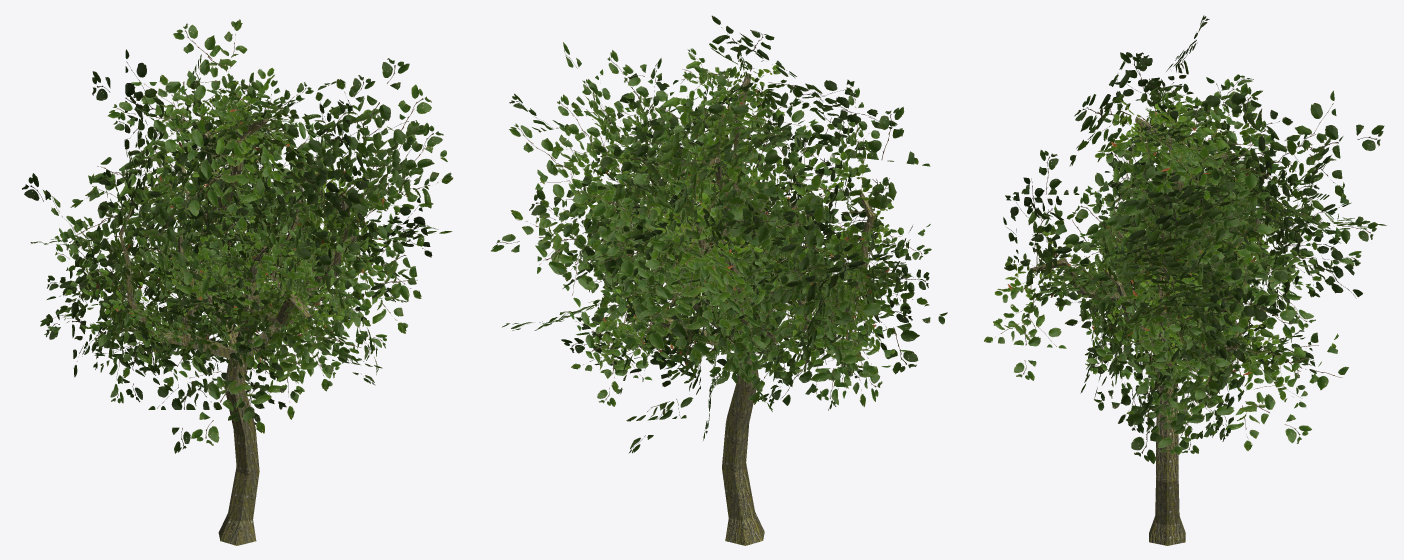
File: mediterranean-tree.glb
3 views of the same model, side by side, from view 1: azimuth 30°, elevation 25°; view 2: azimuth 150°, elevation 25°; view 3: azimuth 270°, elevation 25° (orthographic). The views are drawn at different scales.
Visible parts, largest first — view 1: leaves, trunk; view 2: leaves, trunk; view 3: leaves, trunk.
Boxes of the visible parts, x1=… form: leaves: x1=22, y1=19, x2=453, y2=453; trunk: x1=119, y1=118, x2=356, y2=545; leaves: x1=491, y1=15, x2=947, y2=453; trunk: x1=626, y1=73, x2=874, y2=545; leaves: x1=984, y1=15, x2=1386, y2=463; trunk: x1=1030, y1=116, x2=1266, y2=545.
Bounding box in the file's own units: 6.49 × 7.54 × 5.47.
Materials: 2 (2 with a texture image).
